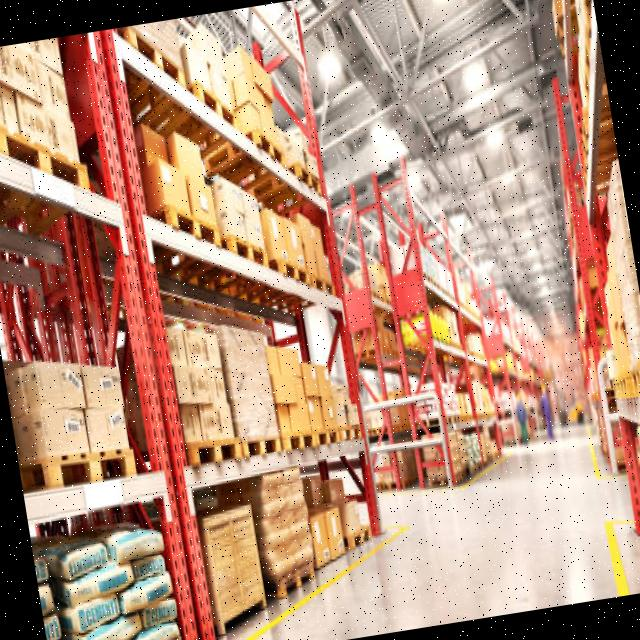Wooden-Pallets: (0, 124, 104, 212), (37, 441, 142, 506), (119, 27, 189, 91), (162, 201, 226, 267), (186, 430, 252, 482), (226, 227, 279, 288), (193, 75, 243, 135), (250, 124, 294, 185), (243, 428, 289, 470), (278, 253, 314, 304), (297, 159, 328, 217), (283, 430, 317, 472)
